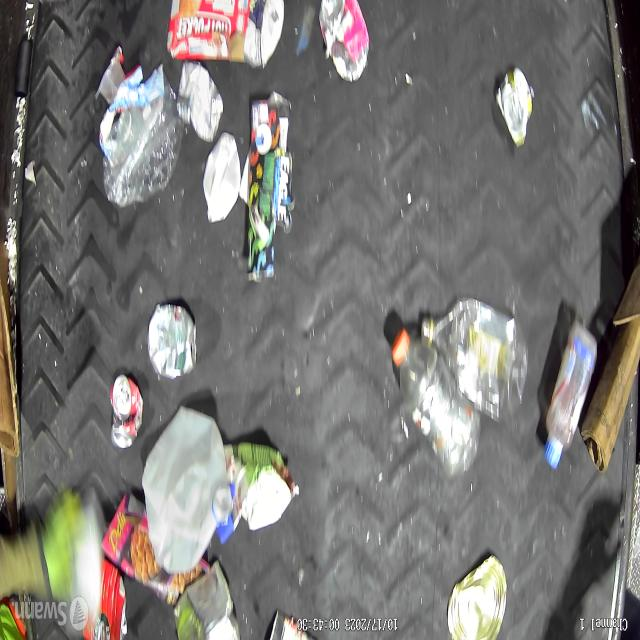can: (319, 0, 369, 83), (146, 301, 197, 380), (175, 61, 223, 140), (110, 371, 143, 450)
milk_jug: (143, 409, 230, 577)
non_white_jug: (216, 442, 295, 546)
plastic_bottle: (423, 297, 527, 419), (392, 337, 478, 478), (544, 326, 598, 474)
